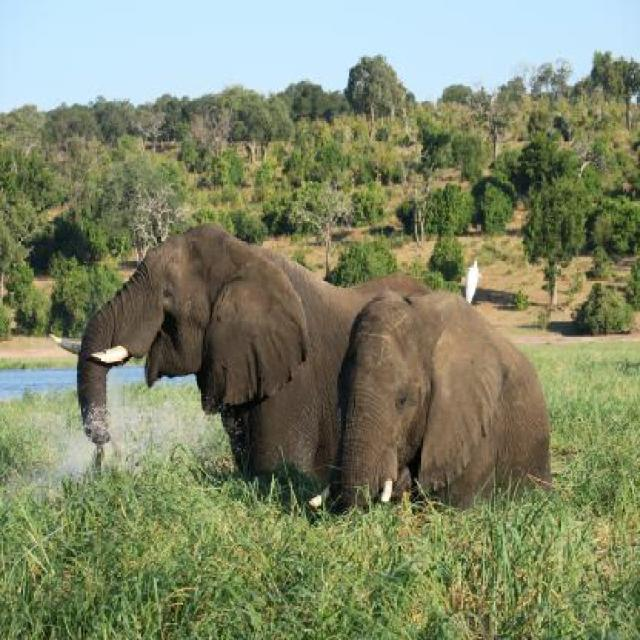Elephant: (45, 226, 357, 505), (320, 282, 558, 540)
